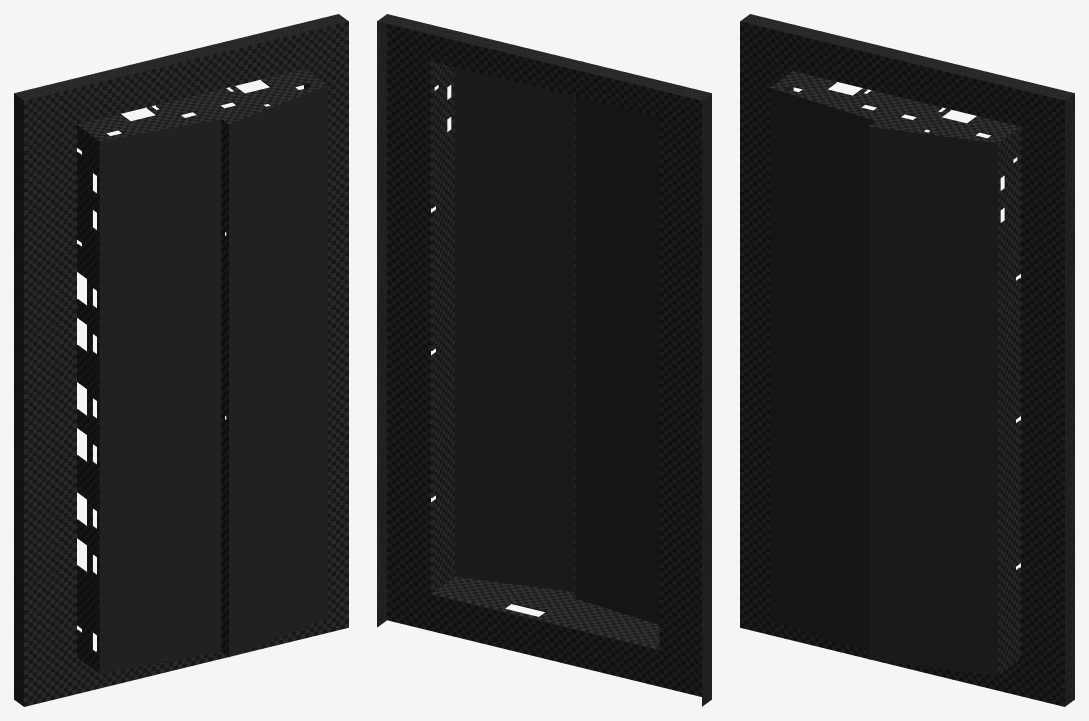
The model's file is blade_warehouse.glb.
3 views of the same model, side by side, from view 1: azimuth 30°, elevation 25°; view 2: azimuth 150°, elevation 25°; view 3: azimuth 330°, elevation 25° (orthographic).
Parts seen in each view (by area): view 1: g_ext_roof, g_ext_ground, g_ext_wall; view 2: g_ext_roof, g_ext_ground, g_int_wall, g_ext_wall; view 3: g_ext_roof, g_ext_ground, g_ext_wall.
Part boxes in pixels (bbox=[...]): g_ext_roof: bbox=[99, 85, 327, 673]; g_ext_ground: bbox=[14, 14, 348, 706]; g_ext_wall: bbox=[77, 69, 327, 673]; g_ext_roof: bbox=[455, 67, 659, 624]; g_ext_ground: bbox=[377, 14, 711, 706]; g_int_wall: bbox=[432, 62, 659, 648]; g_ext_wall: bbox=[431, 61, 659, 649]; g_ext_roof: bbox=[770, 88, 997, 675]; g_ext_ground: bbox=[740, 14, 1074, 706]; g_ext_wall: bbox=[770, 71, 1020, 675].
Bounding box in the file's own units: 74 × 132 × 19.
Materials: 1 (1 with a texture image).
